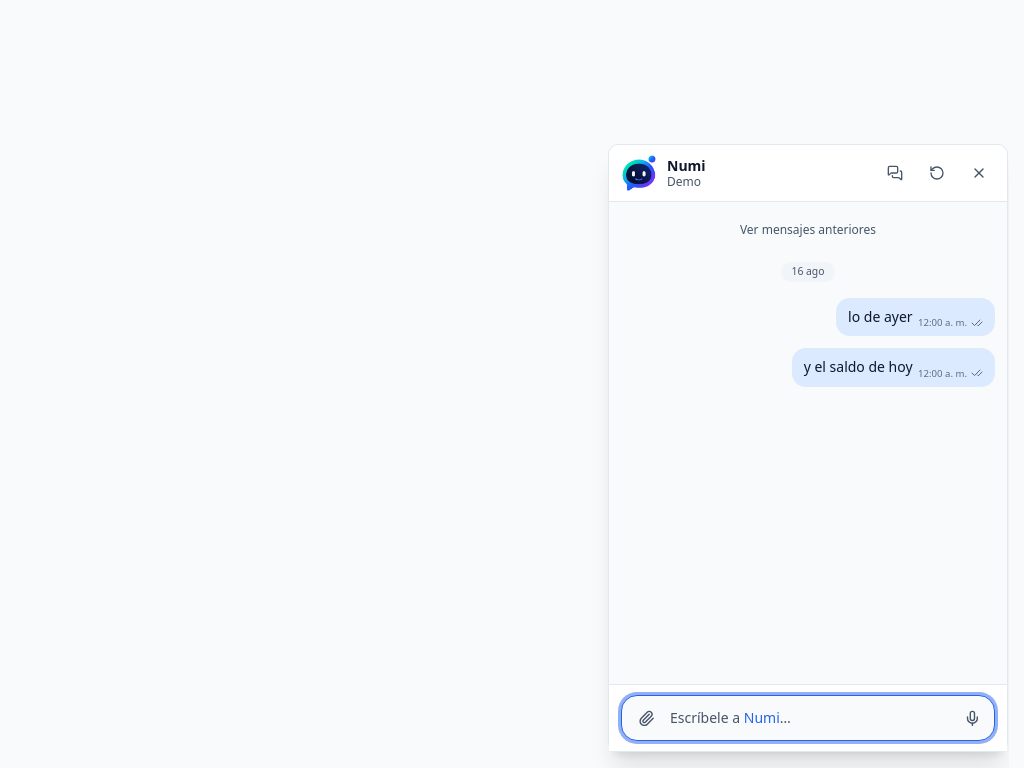
Test: una conversación estrenada no pide una página que no existe
Expected: the text "lo de ayer" is shown, [848,307,913,326]
Click the button named "Nueva conversación": (937, 173) [921,157,953,189]
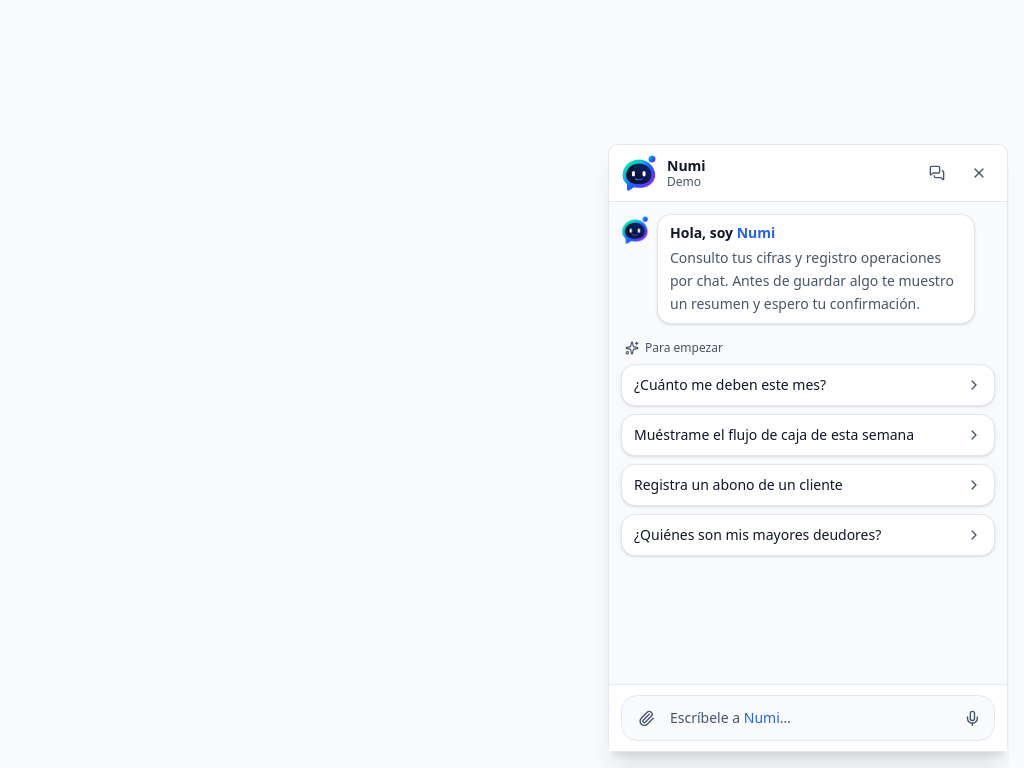
Now the button "Ver mensajes anteriores" is gone
